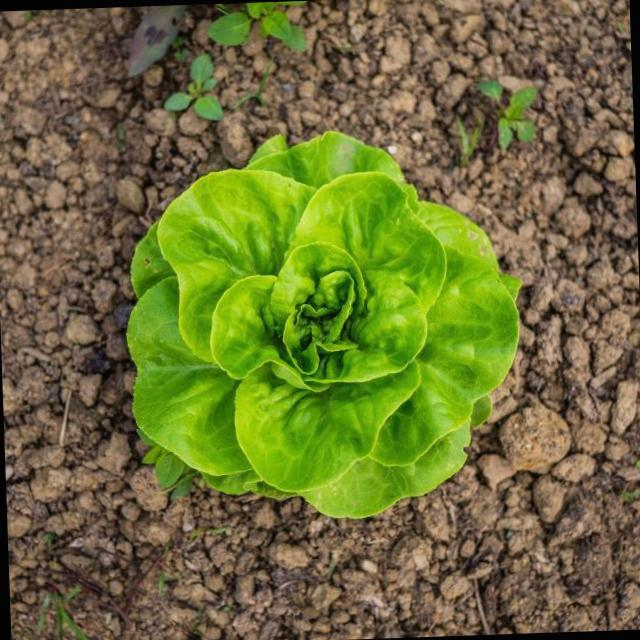Lettuce-Ready-to-Harvest: (127, 132, 518, 517)
